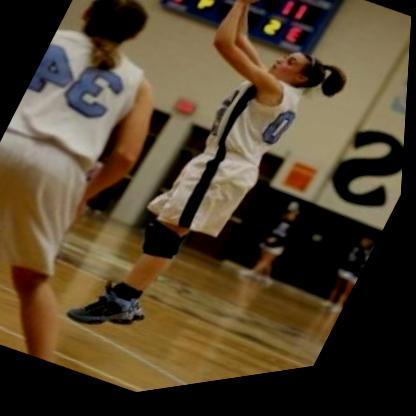basketball: (217, 0, 296, 22)
